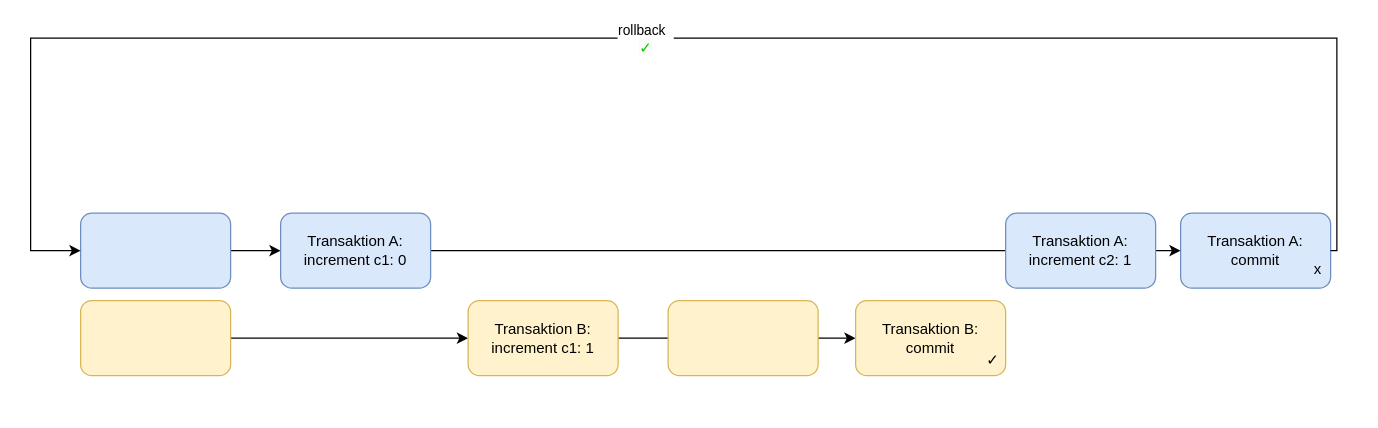
Image size: 1378x428. Some labels were removed from this diagram. The shapes that lost their labels are listed below. From the top down, each one's box as (x1, y1, x2, y2) in pixels, then its label:
(79, 212, 231, 288): Transaktion A: Start
(79, 299, 231, 376): Transaktion B: Start
(667, 299, 818, 376): Transaktion B: increment c2: 0
